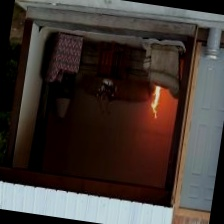fire: (142, 81, 174, 127)
